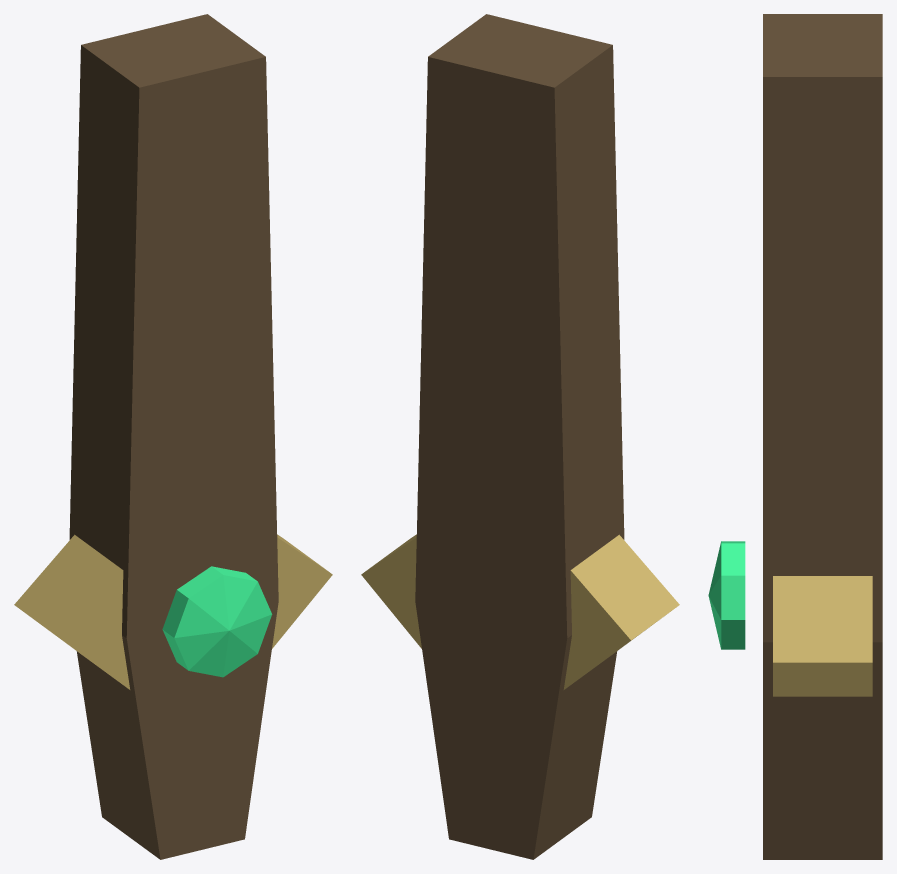
Rendered from ritual_scepter.obj.
3 renders of one model, left to right at view 1: azimuth 30°, elevation 25°; view 2: azimuth 150°, elevation 25°; view 3: azimuth 270°, elevation 25°, orthographic. The views are drawn at different scales.
Parts seen in each view (by area): view 1: scepter_handle, scepter_handle_edge, scepter_gem, scepter_head, scepter_head_edge; view 2: scepter_handle, scepter_handle_edge, scepter_head, scepter_head_edge; view 3: scepter_handle_edge, scepter_head_edge, scepter_gem.
Boxes of the visible parts, x1,y1,x2,y2 form: scepter_handle: [126, 57, 278, 859]; scepter_handle_edge: [69, 14, 265, 859]; scepter_gem: [162, 566, 272, 677]; scepter_head: [63, 537, 332, 689]; scepter_head_edge: [14, 534, 329, 666]; scepter_handle: [415, 57, 567, 859]; scepter_handle_edge: [428, 14, 624, 859]; scepter_head: [361, 537, 630, 689]; scepter_head_edge: [364, 534, 679, 666]; scepter_handle_edge: [763, 14, 882, 859]; scepter_head_edge: [773, 576, 872, 696]; scepter_gem: [708, 541, 745, 649].
Bounding box in the file's own units: 0.32 × 0.88 × 0.1749.
